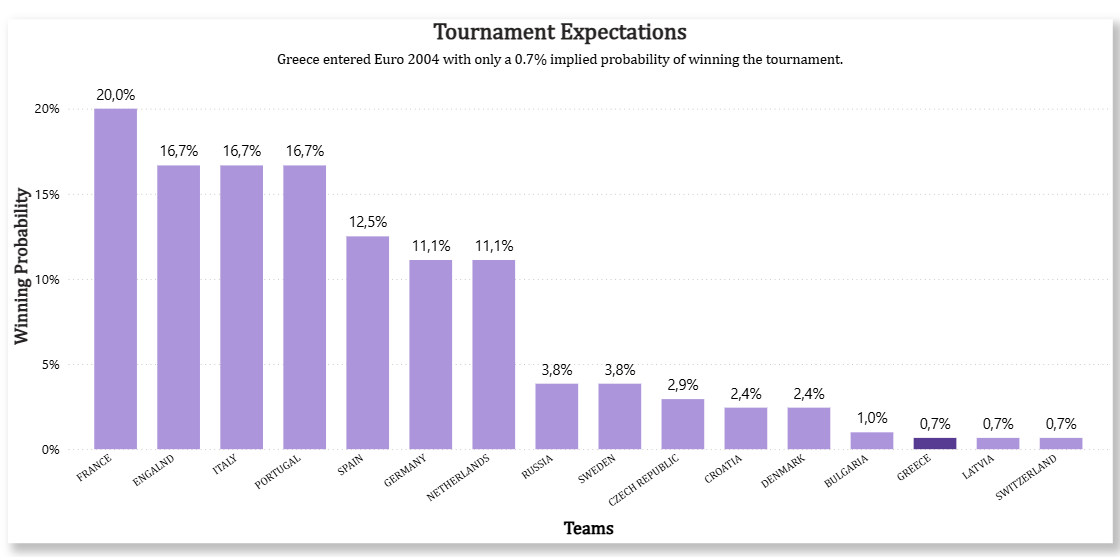

Layout of this report page (visuals, bound fields, positions):
{"tool":"powerbi","page":{"name":"Tournament Expectations","canvas":[1280,720],"ordinal":0},"visuals":[{"type":"clusteredColumnChart","title":"Tournament Expectations","fields":{"Category":["Tournament Expectations.Team"],"Y":["Sum(Tournament Expectations.Probability )"]},"box":[32.9,72.7,1213,575],"z":0}]}

Visuals, with their boxes on the page's 1280x720 design canvas (x1, y1, x2, y2). These are canvas units, not pixel positions in the 1120x557 screenshot, which may show the page scaled, cropped or inside an application window:
"Tournament Expectations" clusteredColumnChart: <box>33,73,1246,648</box>
